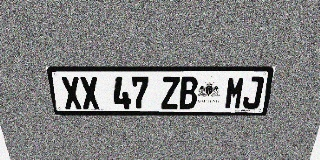4: (112, 77, 131, 109)
7: (130, 77, 149, 109)
B: (179, 77, 198, 109)
J: (242, 77, 264, 109)
M: (224, 77, 246, 109)
X: (60, 77, 83, 109), (79, 77, 100, 109)
Z: (161, 77, 180, 109)
